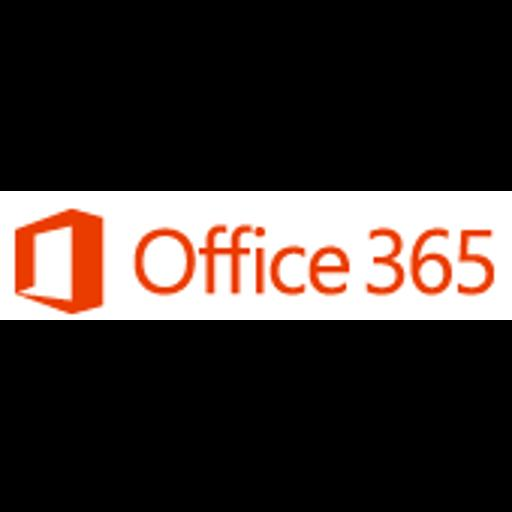Outlook: (0, 191, 512, 320)
